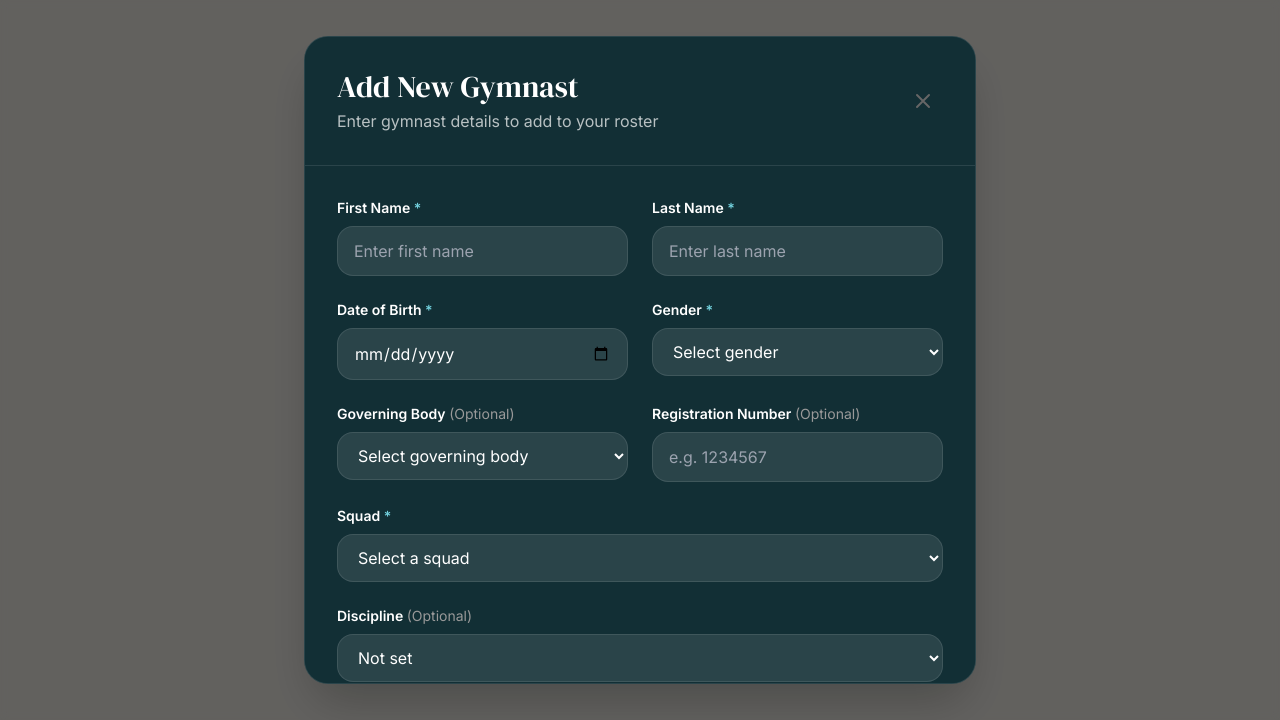
MemberModal governing-body region filtering › keeps the generic registration label until a body is chosen, then uses the body-specific term
The image size is (1280, 720).
Expected: the text "Registration Number (Optional)" is shown, left=652, top=405, right=860, bottom=422
Select "USA Swimming" in the dropdown labelled "Governing Body (Optional)": {"x": 482, "y": 456} left=337, top=432, right=628, bottom=480
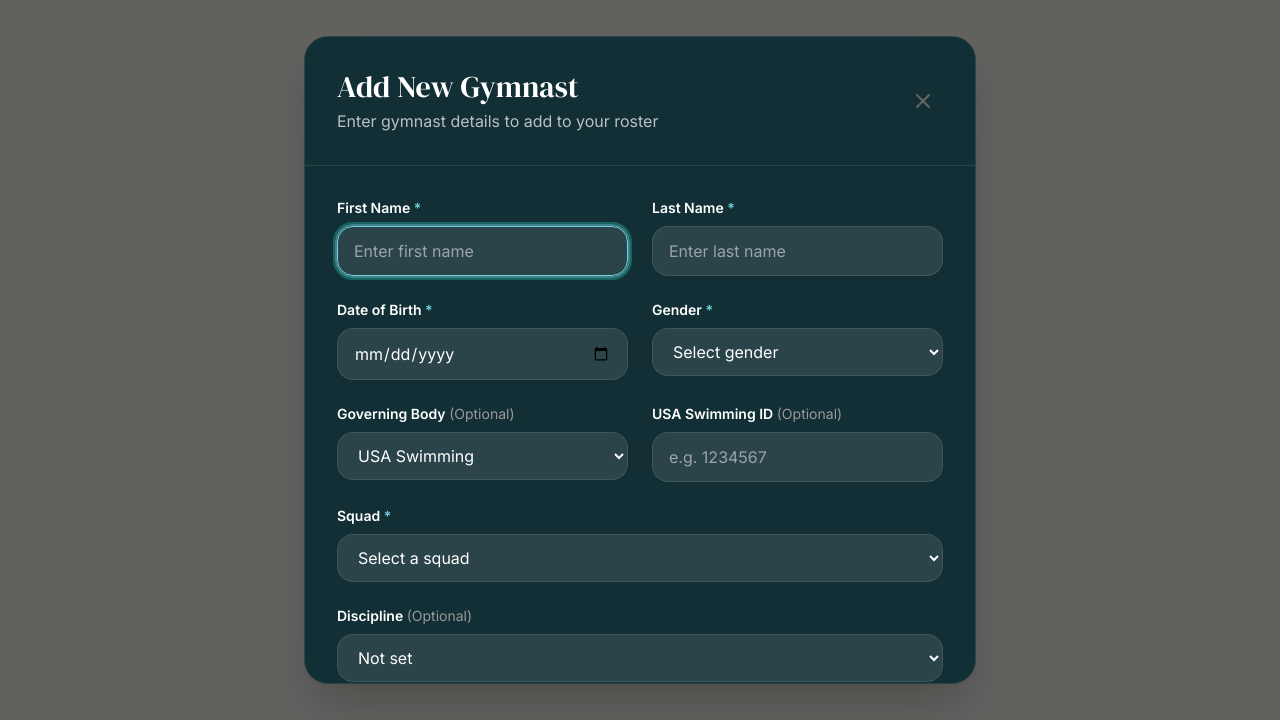
Expected: the text "USA Swimming ID (Optional)" is shown, left=652, top=405, right=842, bottom=422
